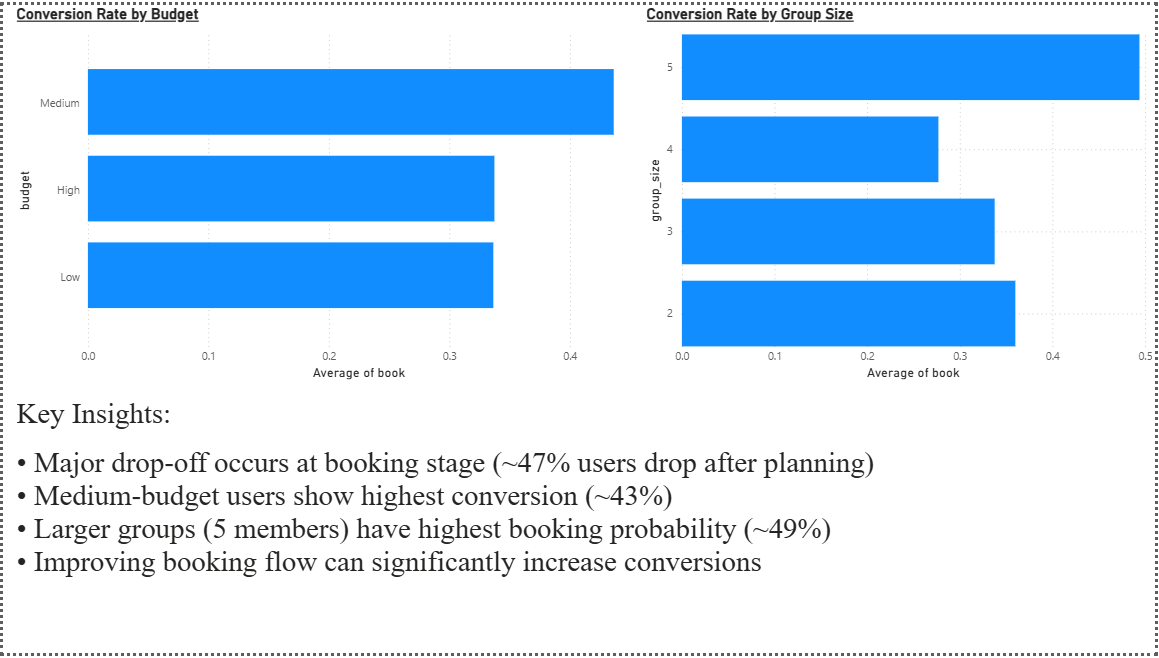

Layout of this report page (visuals, bound fields, positions):
{"tool":"powerbi","page":{"name":"Page 2","canvas":[1280,720],"ordinal":1},"visuals":[{"type":"barChart","title":"Conversion Rate by Budget","fields":{"Category":["funnel_dataset.budget"],"Y":["Avg(funnel_dataset.book)"]},"box":[9.7,0,699.5,421],"z":0},{"type":"barChart","title":"Conversion Rate by Group Size","fields":{"Category":["funnel_dataset.group_size"],"Y":["Avg(funnel_dataset.book)"]},"box":[709.2,0,571.6,421],"z":1},{"type":"textbox","box":[9.7,430.7,1271.1,289.8],"z":2}]}

Visuals, with their boxes in screenshot pixels (x1, y1, x2, y2), scaled from the page's 1280x720 canvas onto the 1159x658 screenshot:
"Conversion Rate by Budget" barChart: (9,0,642,385)
"Conversion Rate by Group Size" barChart: (642,0,1158,385)
textbox: (9,394,1158,657)
